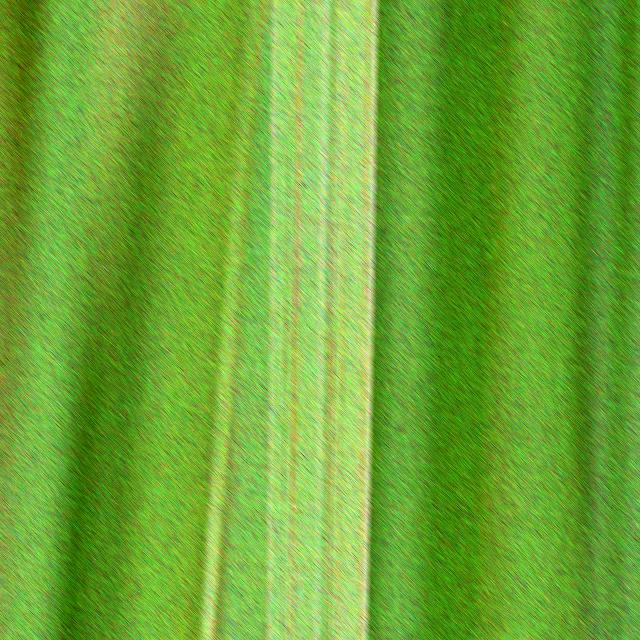BLS: (287, 0, 303, 640), (321, 0, 336, 640), (357, 0, 370, 640), (279, 77, 290, 640), (335, 168, 345, 640), (293, 515, 297, 640)
